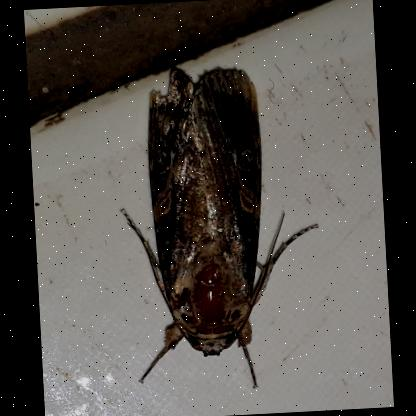Fall Armyworm Moth: (107, 54, 331, 398)
